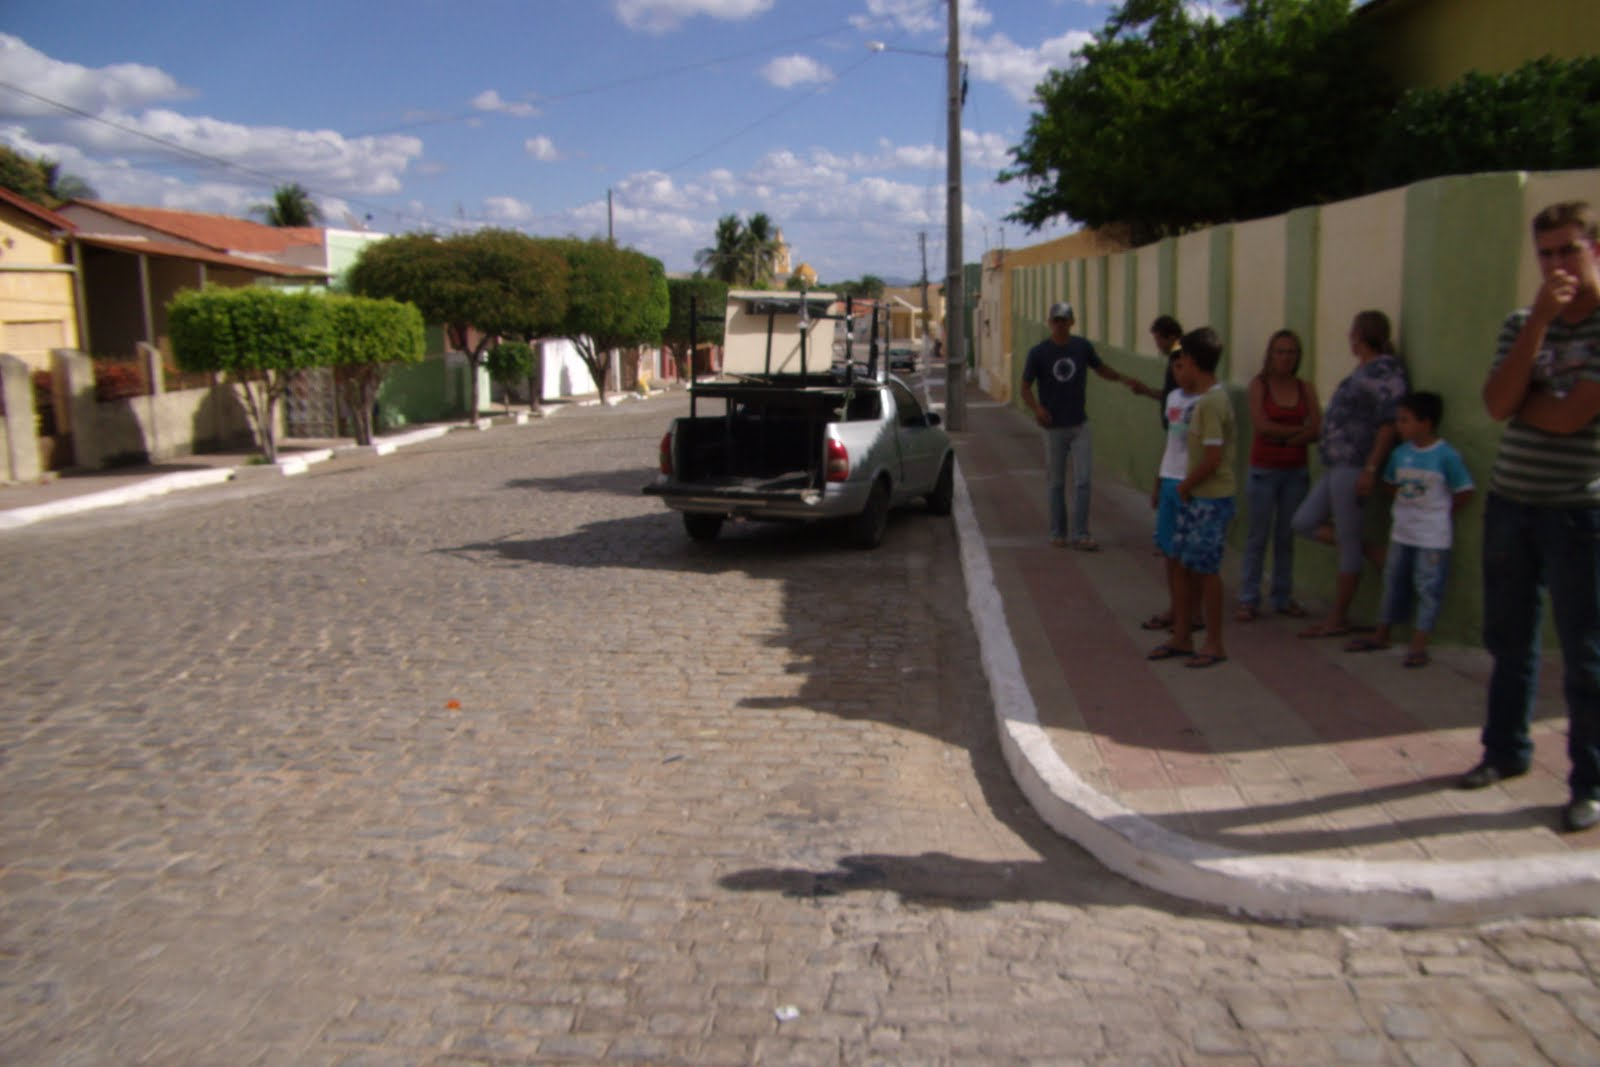Humano: (1470, 208, 1600, 827), (1314, 311, 1398, 633), (1181, 328, 1245, 683), (1027, 290, 1114, 554), (1253, 325, 1314, 635), (1386, 395, 1455, 651), (1162, 347, 1186, 639), (1141, 314, 1181, 371)
